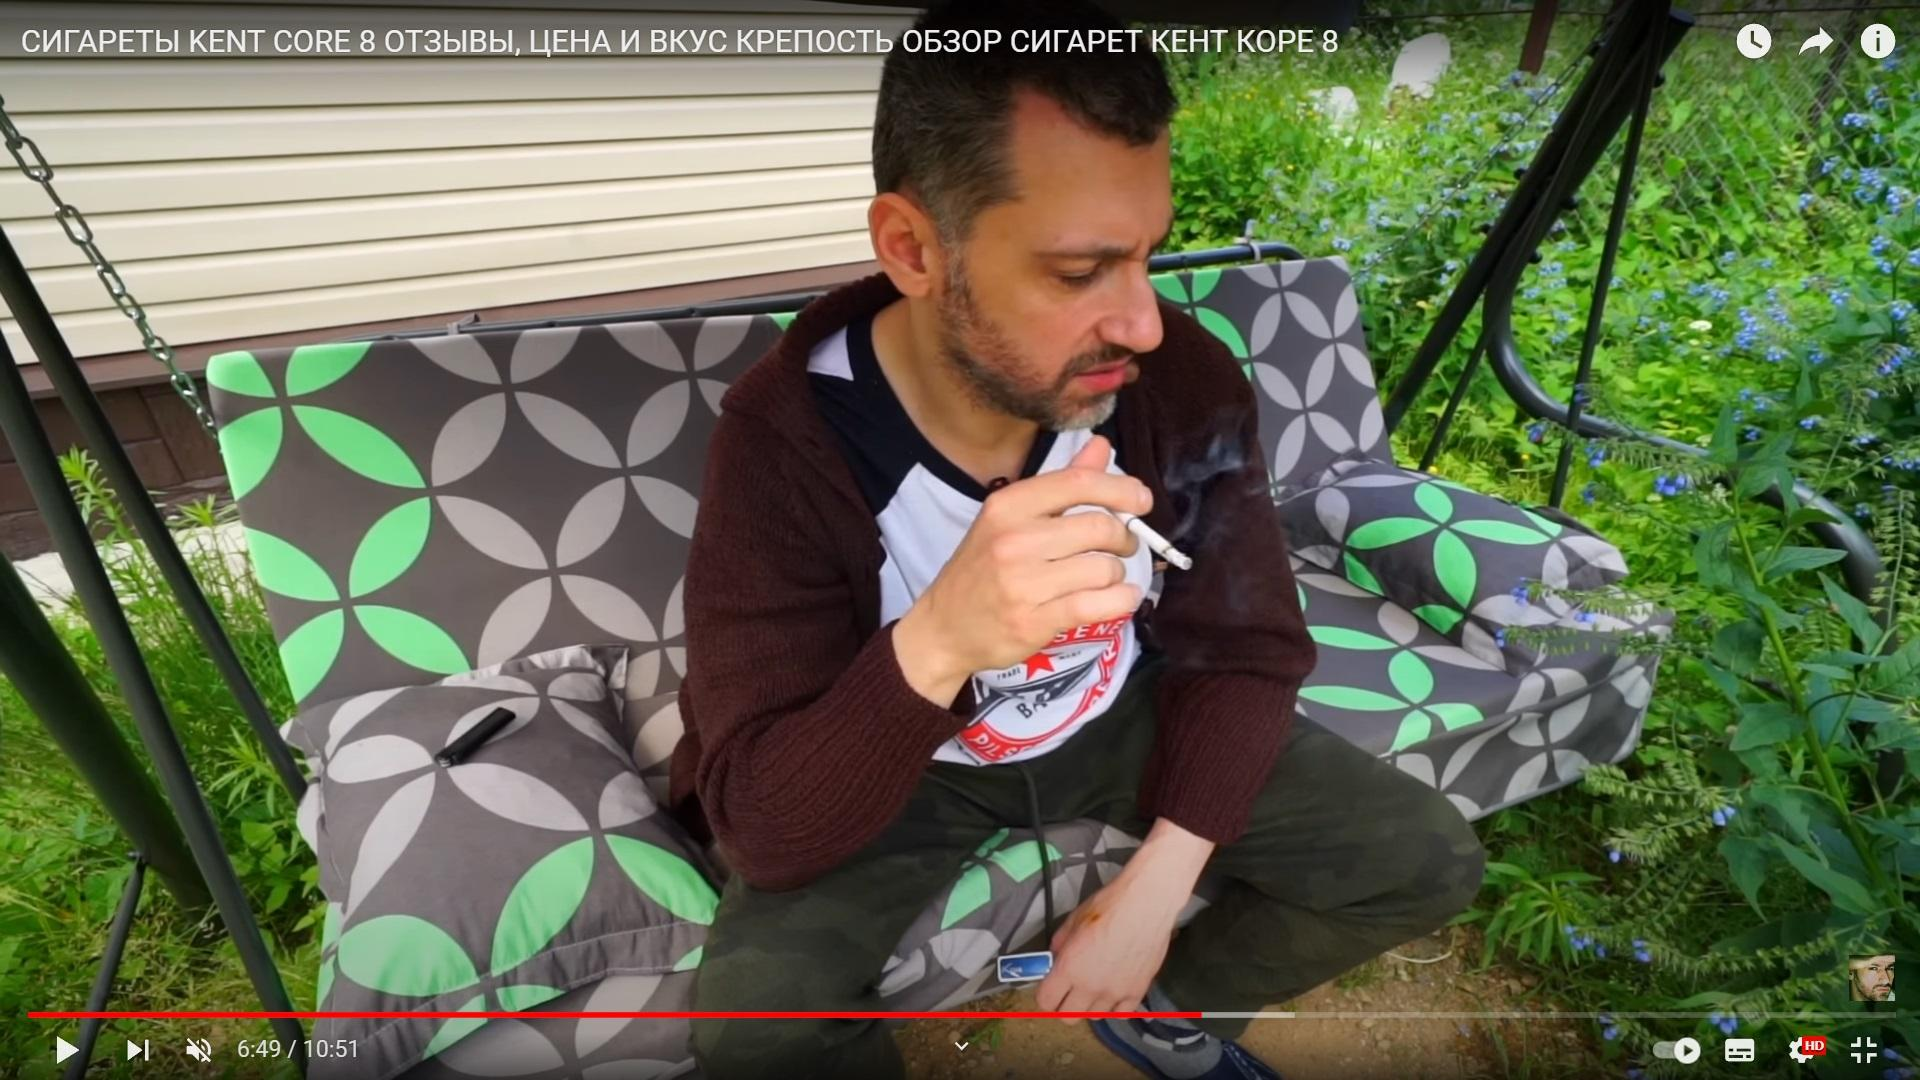cigarette: (1125, 517, 1192, 570)
